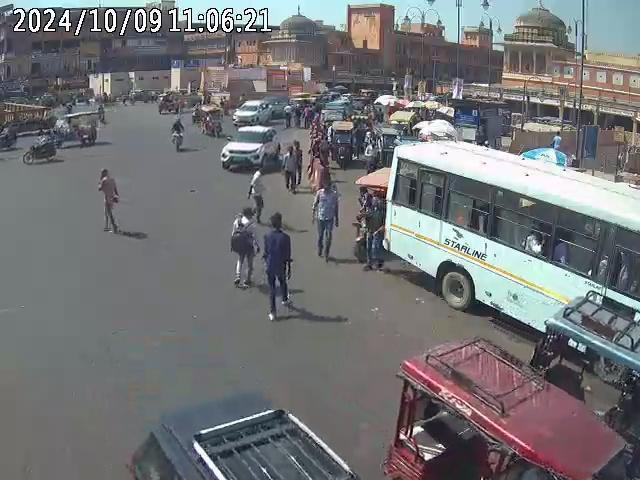auto: (380, 338, 638, 480), (535, 290, 640, 391), (353, 166, 396, 270), (49, 111, 100, 147), (326, 118, 360, 169), (198, 103, 223, 138)
bus: (386, 141, 640, 337)
car: (126, 388, 358, 478), (220, 125, 280, 172), (231, 96, 285, 126)
motorbike: (156, 90, 182, 114)
motorbike-rider: (22, 129, 63, 165), (170, 114, 185, 152), (0, 122, 17, 152)
person: (262, 211, 294, 324), (312, 177, 341, 260), (230, 208, 260, 288), (98, 169, 119, 232), (247, 169, 266, 219), (282, 145, 299, 196), (522, 228, 543, 258)
